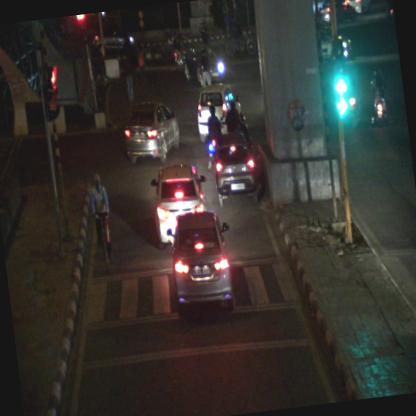car: (166, 209, 238, 315), (146, 160, 212, 247), (119, 98, 182, 165), (209, 132, 254, 209), (192, 84, 246, 140), (180, 42, 224, 84), (319, 0, 355, 27)
motorcycle: (367, 65, 390, 127)
